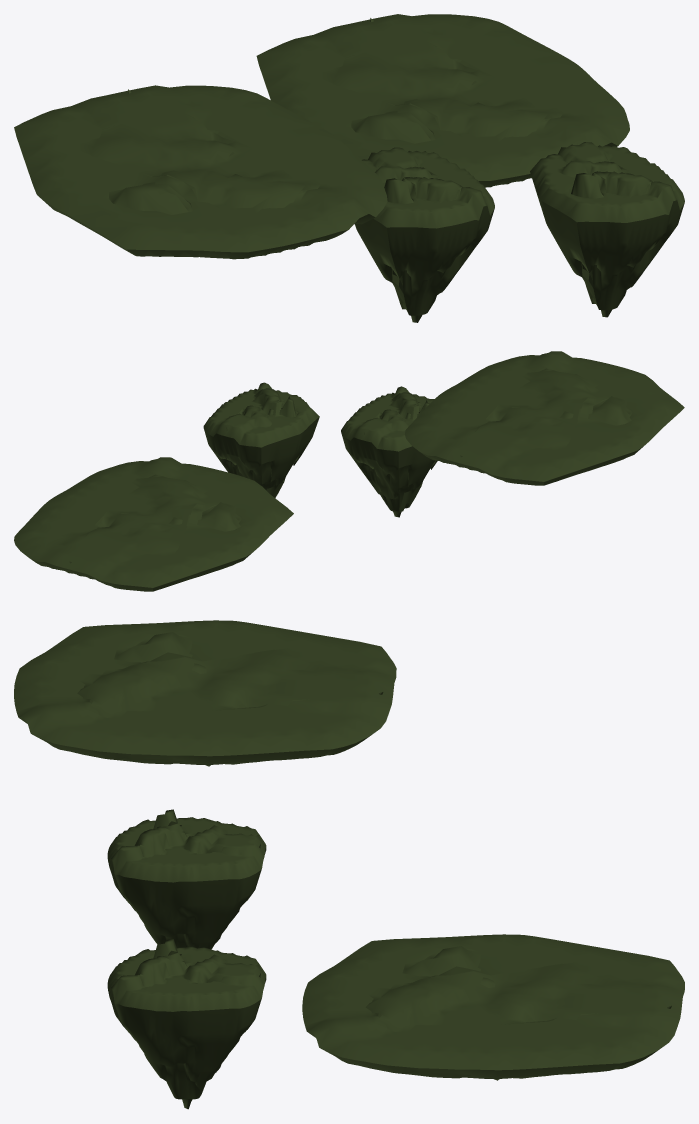
The model's file is air plataforms.fbx.
The picture shows the model from 3 angles, top to bottom: view 1: azimuth 30°, elevation 25°; view 2: azimuth 150°, elevation 25°; view 3: azimuth 270°, elevation 25°; orthographic projection. The views are drawn at different scales.
Parts seen in each view (by area): view 1: polySurface4, polySurface1, polySurface2, polySurface3; view 2: polySurface1, polySurface4, polySurface2, polySurface3; view 3: polySurface4, polySurface1, polySurface2, polySurface3.
Part boxes in pixels (x1=…): polySurface4: x1=14, y1=85, x2=387, y2=259; polySurface1: x1=256, y1=14, x2=629, y2=187; polySurface2: x1=530, y1=142, x2=684, y2=317; polySurface3: x1=355, y1=147, x2=494, y2=322; polySurface1: x1=14, y1=457, x2=293, y2=591; polySurface4: x1=405, y1=351, x2=684, y2=485; polySurface2: x1=203, y1=382, x2=319, y2=497; polySurface3: x1=341, y1=386, x2=437, y2=517; polySurface4: x1=14, y1=620, x2=396, y2=766; polySurface1: x1=302, y1=934, x2=684, y2=1080; polySurface2: x1=107, y1=939, x2=266, y2=1109; polySurface3: x1=107, y1=809, x2=266, y2=949.
Bounding box in the file's own units: 14.05 × 5.02 × 12.45.
